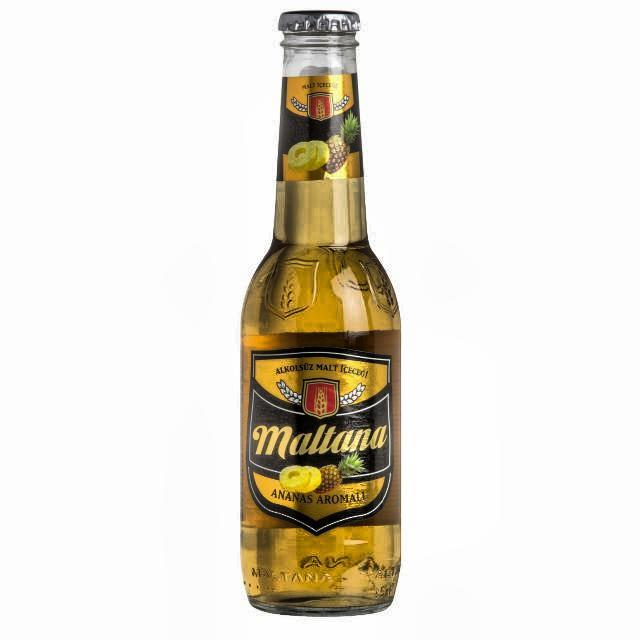glass: (239, 10, 403, 619)
